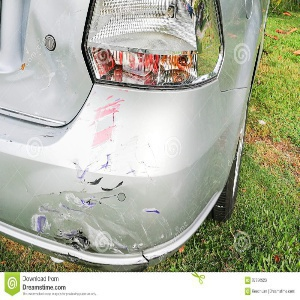bumper_scratch: (34, 128, 158, 235)
